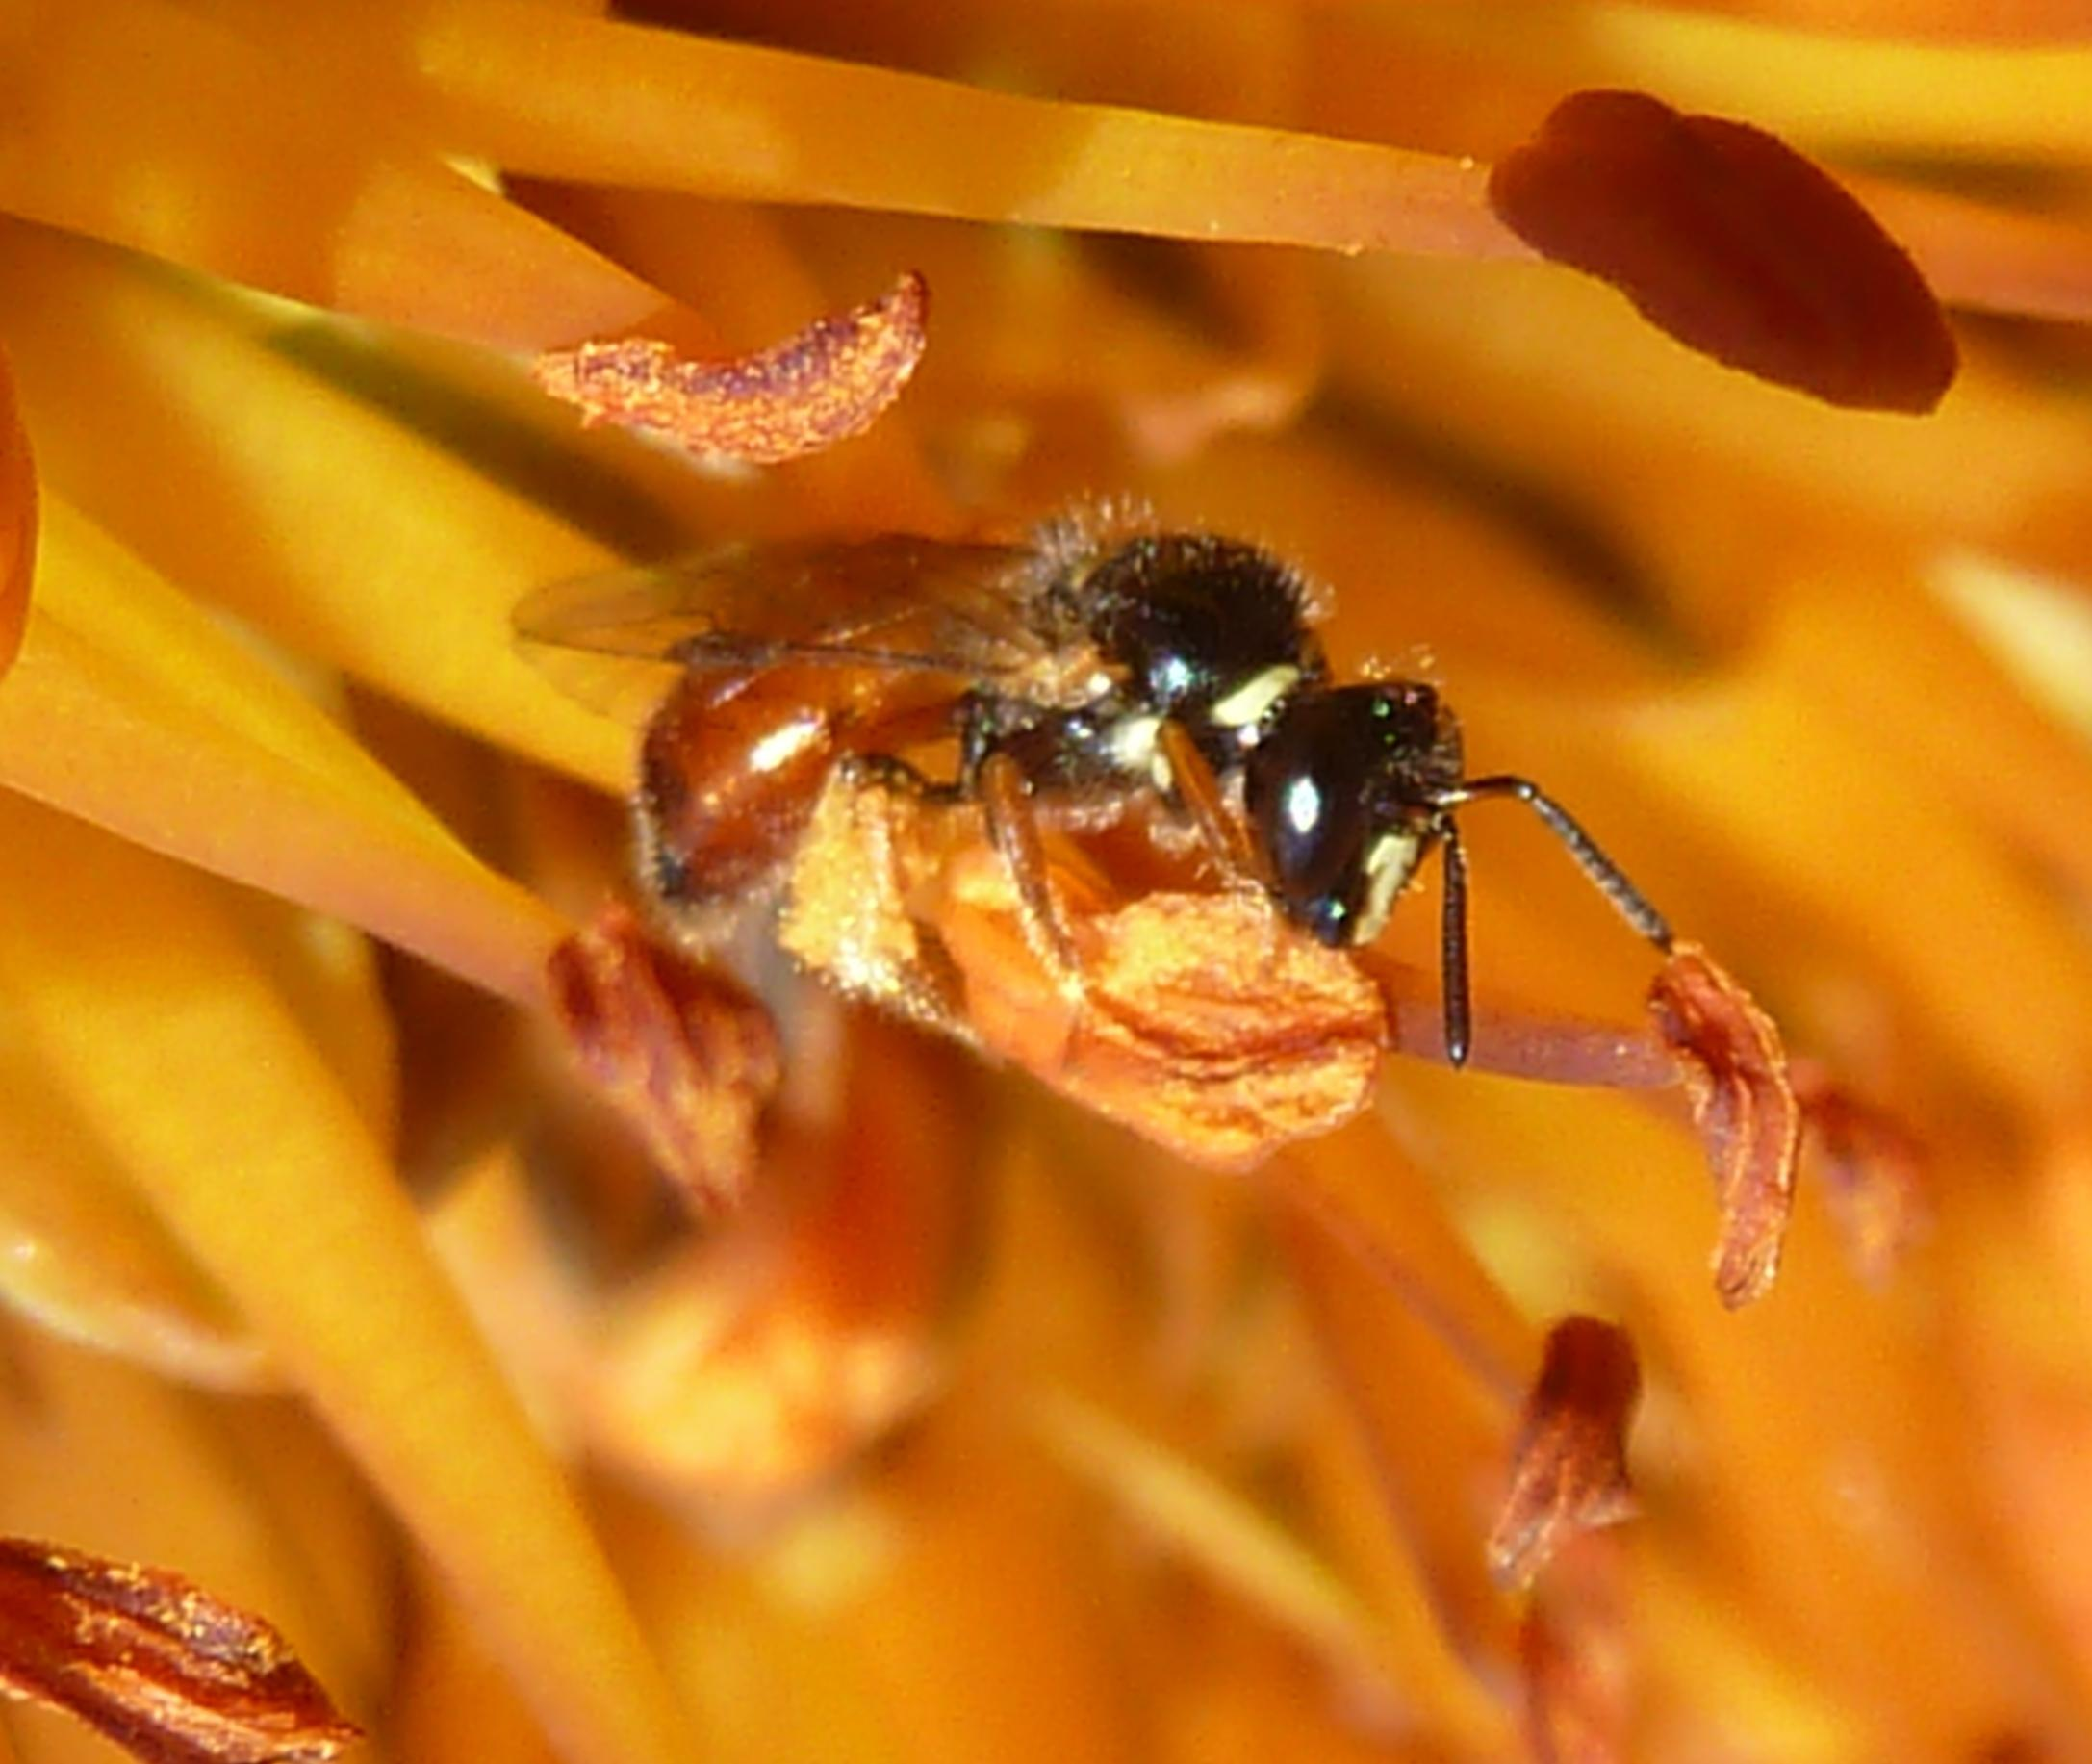Allodapula: (480, 456, 1738, 1099)
